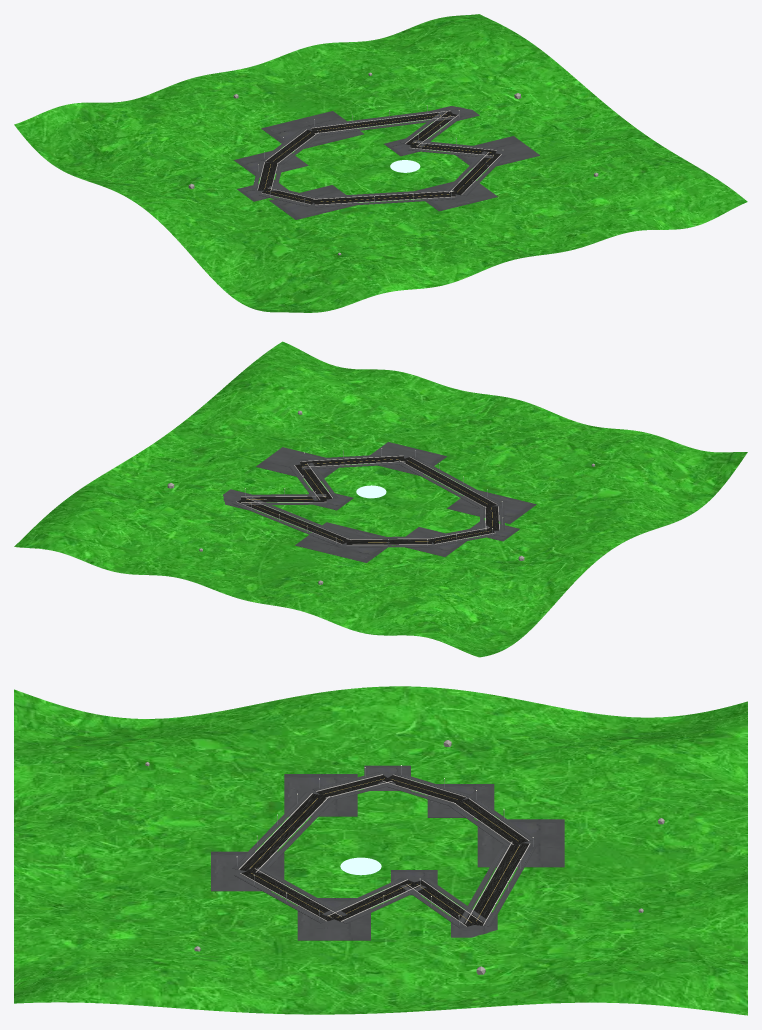
File: station-core.glb
3 views of the same model, one above another, from view 1: azimuth 30°, elevation 25°; view 2: azimuth 150°, elevation 25°; view 3: azimuth 270°, elevation 25° (orthographic). The views are drawn at different scales.
Visible parts, largest first — view 1: terrain.grass, stadium.pad, vault.pad, market.pad, war.pad, road.asphalt.6, road.asphalt.2, forge.pad, road.asphalt.5; view 2: terrain.grass, stadium.pad, vault.pad, market.pad, war.pad, road.asphalt.6, road.asphalt.2, forge.pad, road.asphalt.5; view 3: terrain.grass, stadium.pad, market.pad, vault.pad, war.pad, road.asphalt.6, road.asphalt.2, forge.pad, road.asphalt.5, road.asphalt.1, road.asphalt.3, road.asphalt.4 (+9 smaller).
Boxes of the visible parts, x1,y1,x2,y2 form: terrain.grass: (14, 14, 747, 312); stadium.pad: (261, 111, 364, 150); vault.pad: (269, 185, 356, 219); market.pad: (452, 136, 539, 168); war.pad: (416, 180, 497, 211); road.asphalt.6: (313, 191, 455, 204); road.asphalt.2: (311, 111, 452, 132); forge.pad: (234, 148, 308, 177); road.asphalt.5: (453, 152, 500, 195); terrain.grass: (14, 341, 747, 657); stadium.pad: (295, 522, 390, 562); vault.pad: (447, 490, 536, 523); market.pad: (256, 447, 341, 480); war.pad: (370, 442, 446, 475); road.asphalt.6: (400, 457, 496, 507); road.asphalt.2: (237, 500, 347, 544); forge.pad: (396, 527, 466, 556); road.asphalt.5: (300, 456, 404, 466); terrain.grass: (14, 686, 747, 1015); stadium.pad: (477, 819, 564, 867); market.pad: (297, 898, 370, 940); vault.pad: (284, 774, 357, 816); war.pad: (211, 851, 284, 891); road.asphalt.6: (239, 793, 328, 872); road.asphalt.2: (471, 843, 528, 925); forge.pad: (427, 784, 494, 817); road.asphalt.5: (241, 871, 340, 921); road.asphalt.1: (454, 799, 528, 844); road.asphalt.3: (407, 880, 481, 926); road.asphalt.4: (334, 880, 413, 921).
Size of the model in its own units: 220 by 11.58 by 220.
10 materials, 3 textured.
